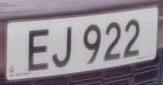2: (102, 16, 124, 66), (121, 14, 143, 61)
9: (80, 19, 104, 68)
E: (25, 21, 53, 78)
J: (49, 23, 77, 72)
